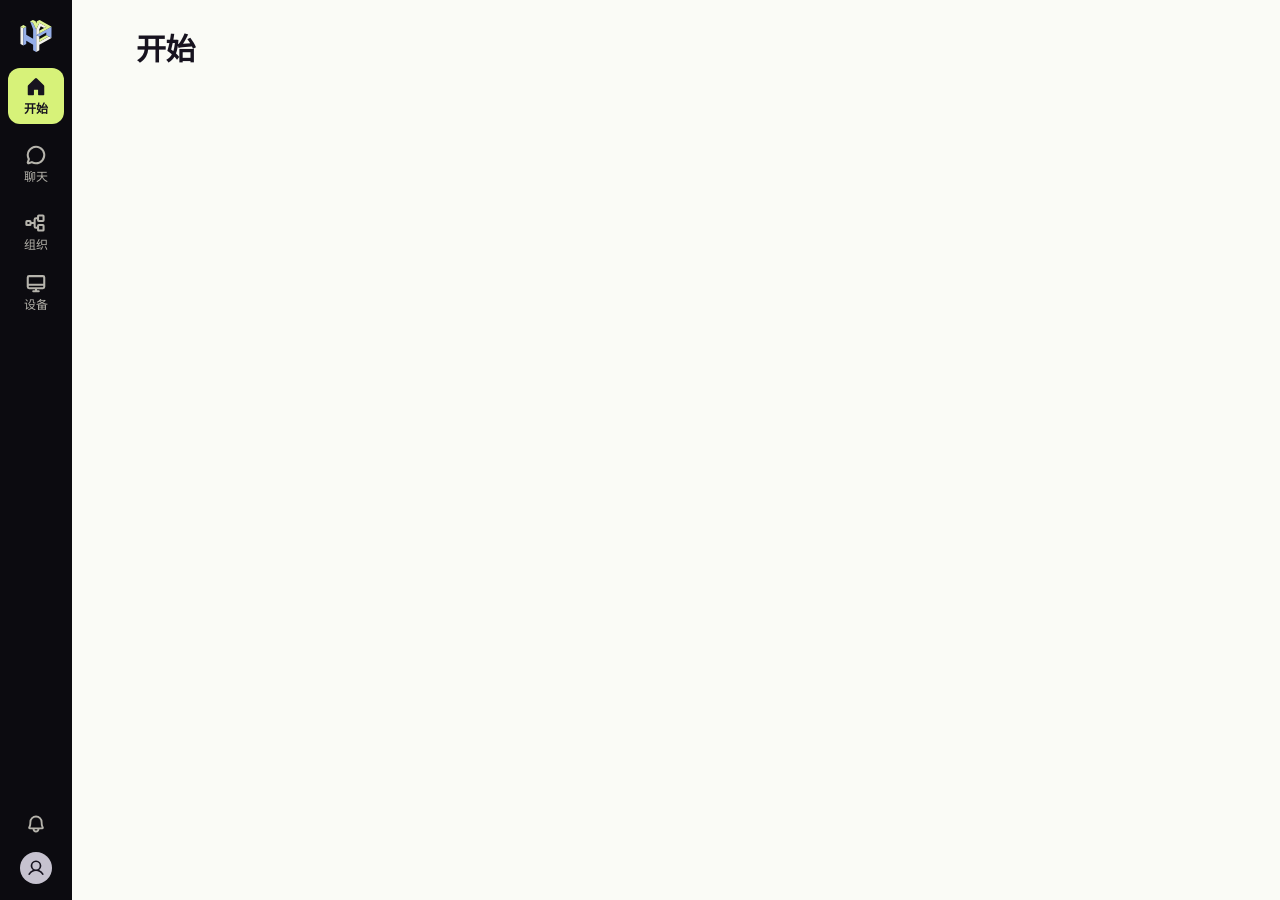
Test: org lifecycle page wiring › keeps the dialog and shows the refusal without a success state
Click the button "组织".
click(36, 232)  # box [8, 204, 64, 260]
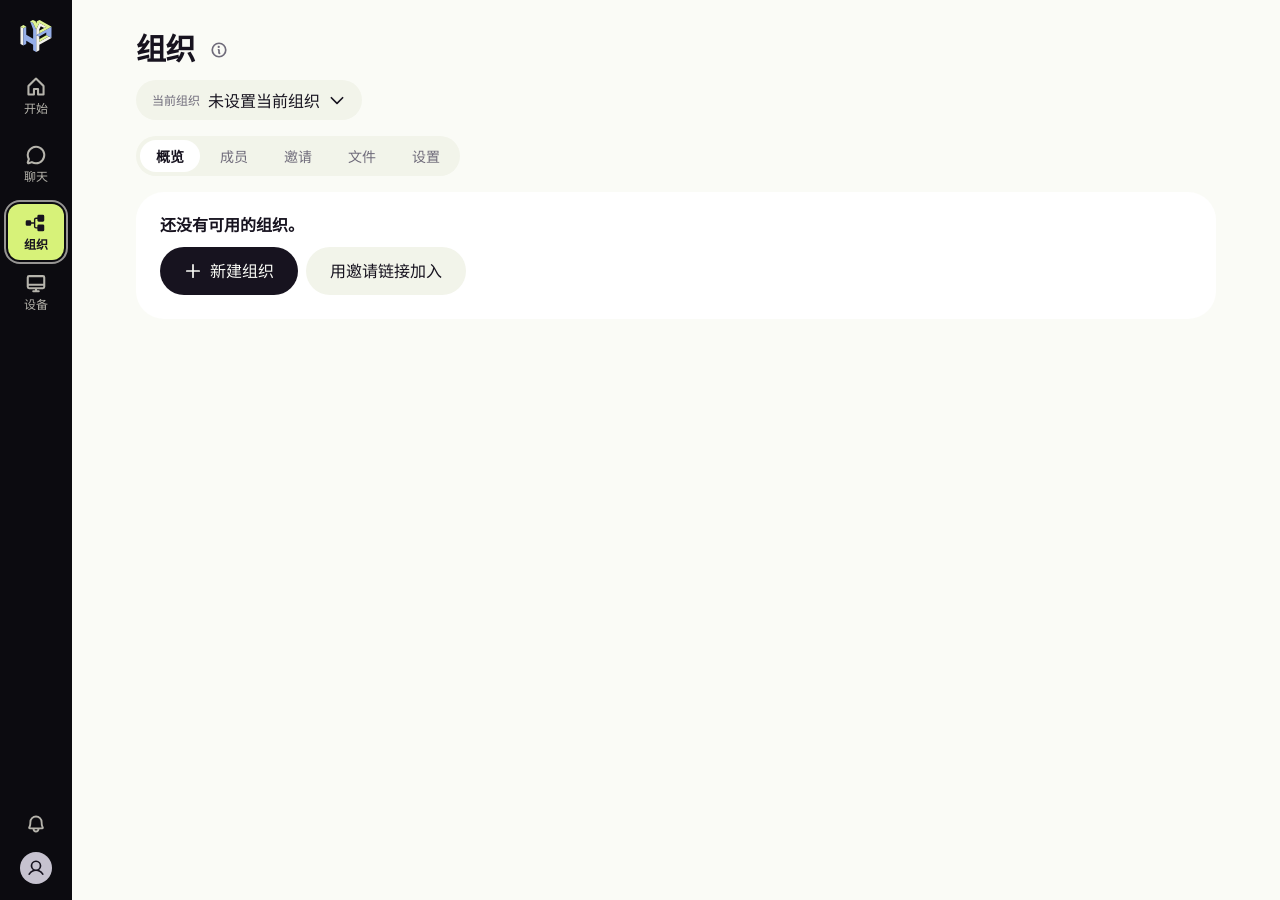
Expected: the text "还没有可用的组织。" is shown, [160, 216, 304, 235]
Click the button "新建组织".
click(229, 271)  # box [160, 247, 298, 295]
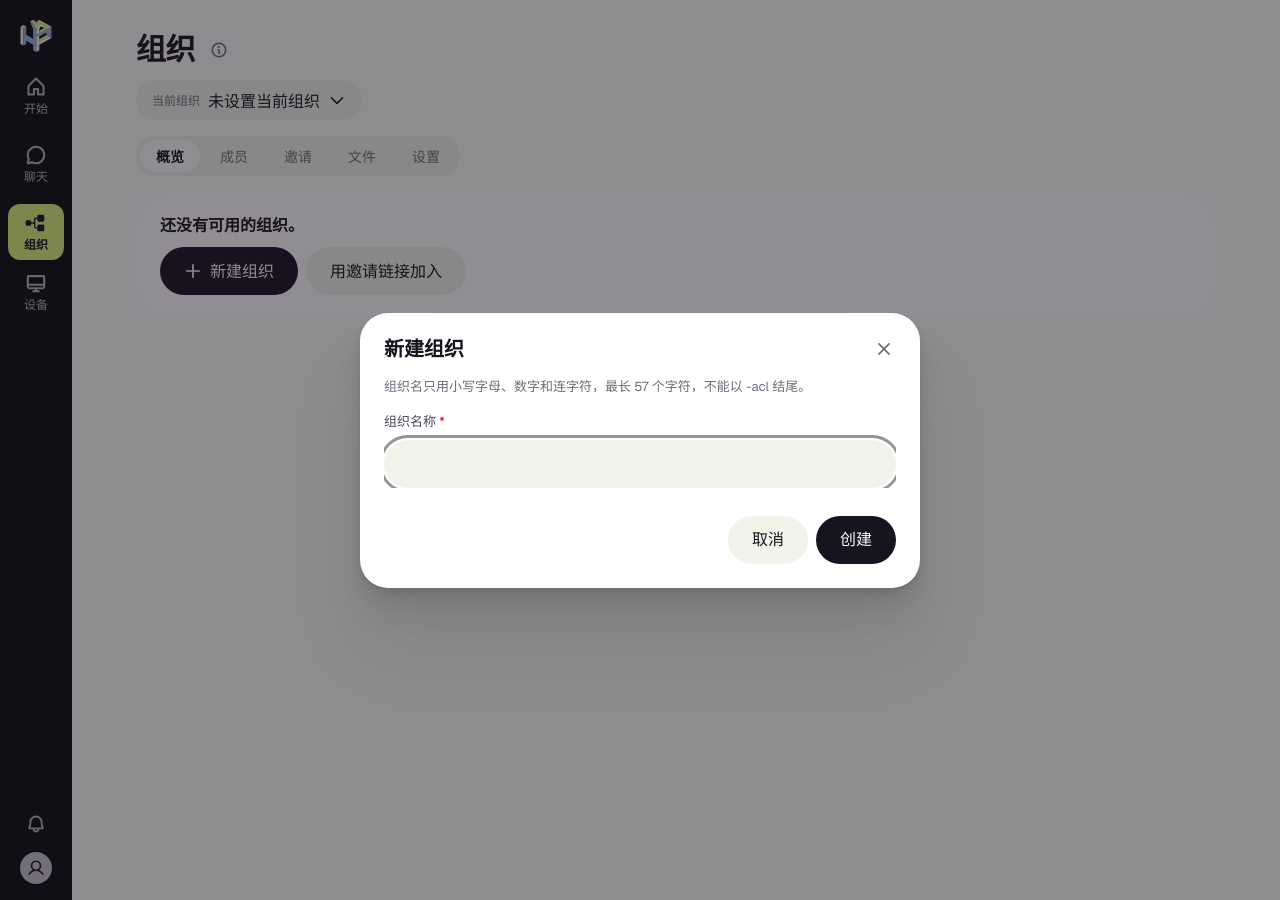
Type "design" into the field labelled "组织名称 *".
click(640, 464); type("design")  # box [384, 440, 896, 488]
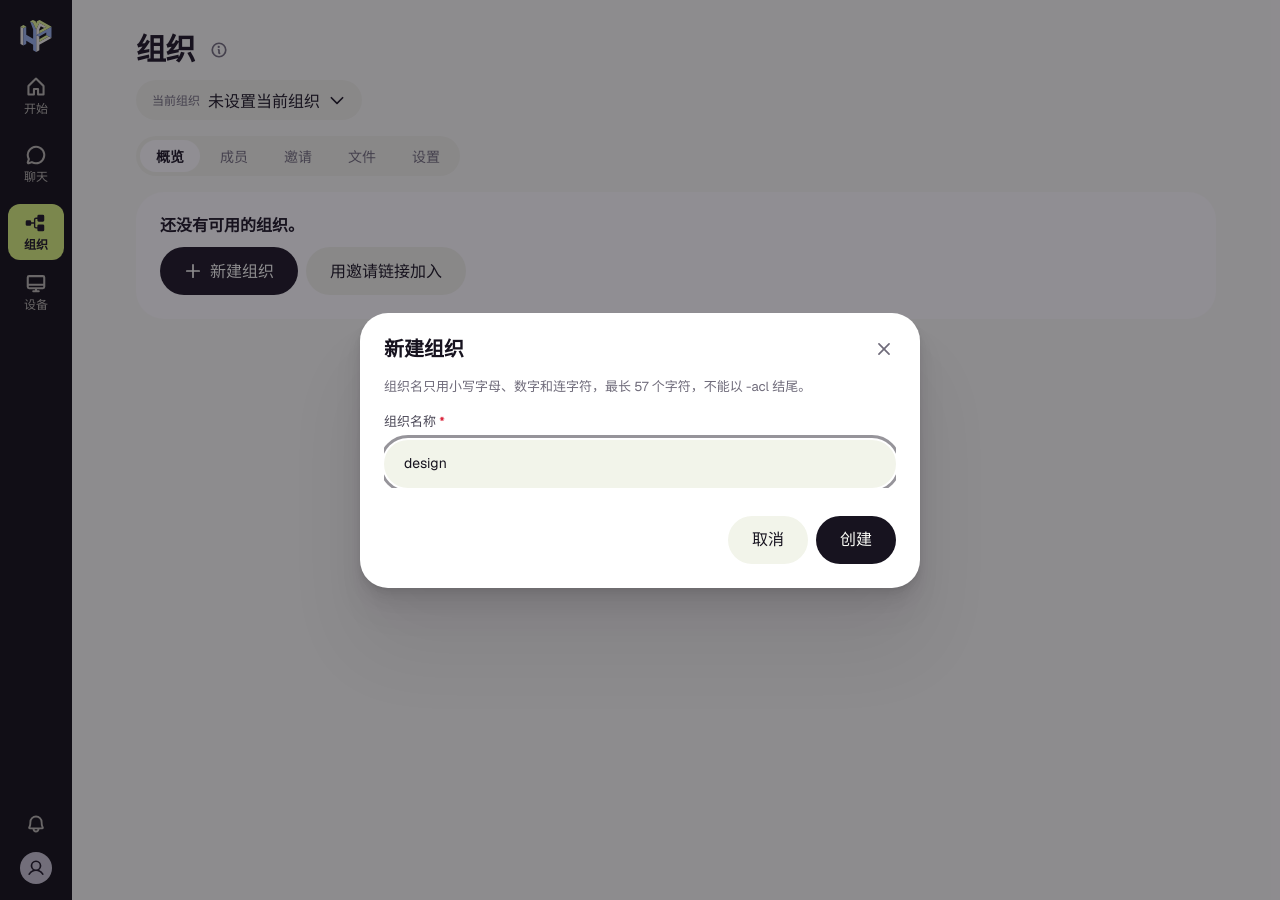
Click the button "创建".
click(856, 540)  # box [816, 516, 896, 564]
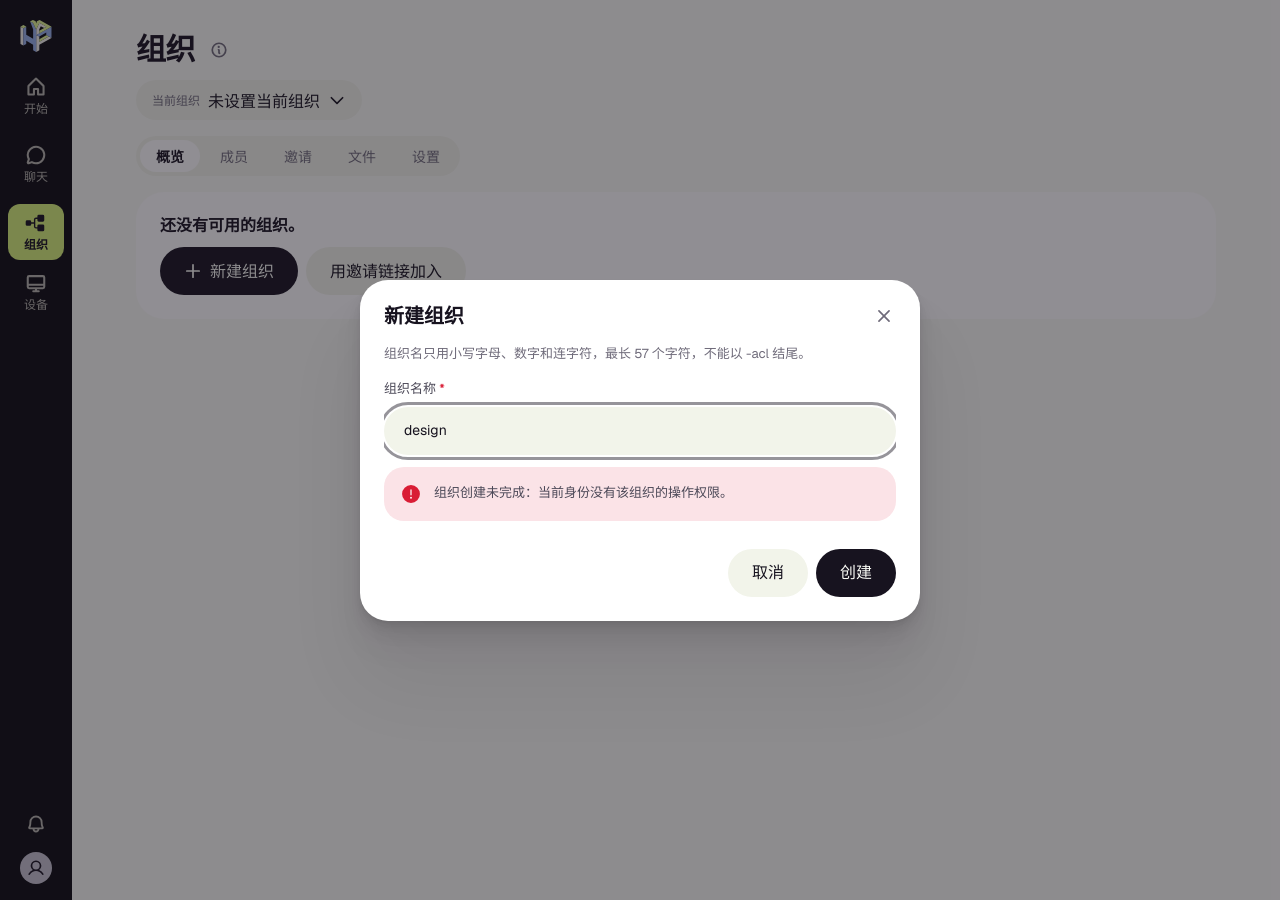
Expected: the text "组织创建未完成：当前身份没有该组织的操作权限。" is shown, [434, 484, 733, 500]
